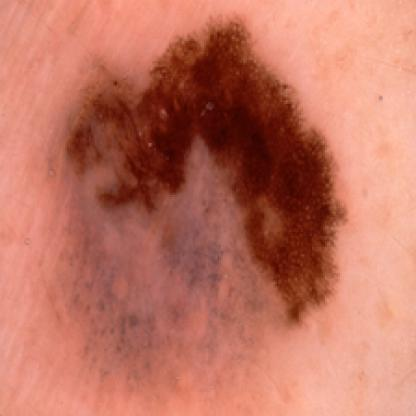malignant: (67, 34, 351, 308)
